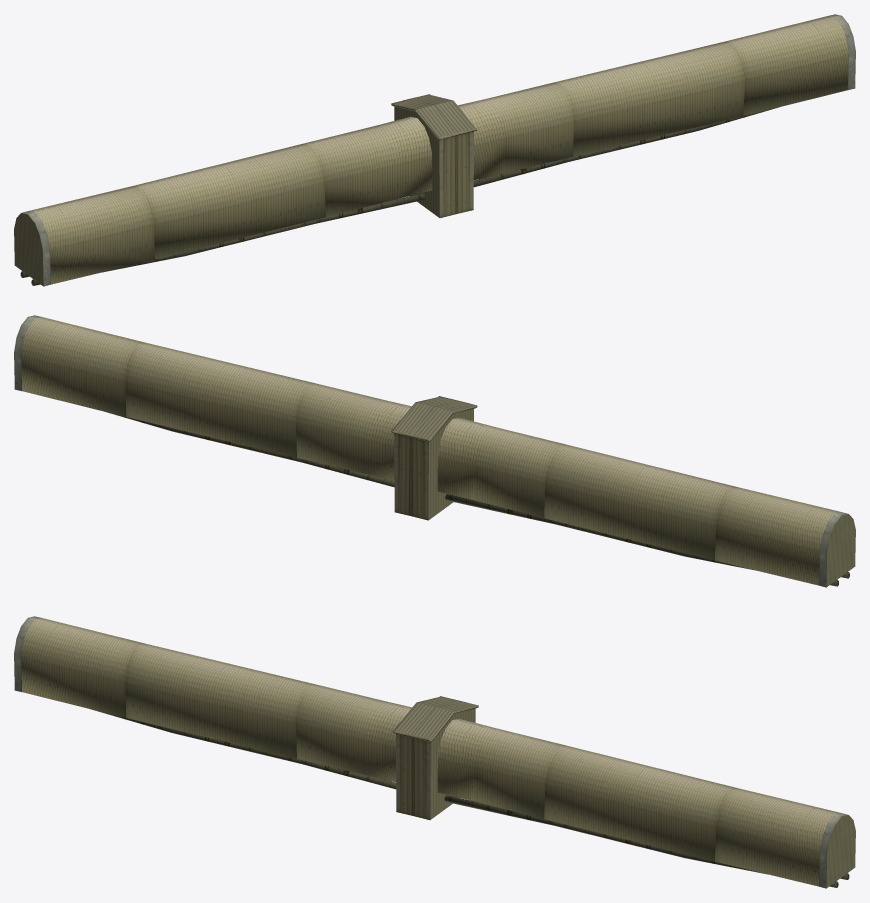
Rendered from industrial23.obj.
3 renders of one model, top to bottom at view 1: azimuth 30°, elevation 25°; view 2: azimuth 150°, elevation 25°; view 3: azimuth 330°, elevation 25°, orthographic.
Visible parts, largest first — view 1: industrial23; view 2: industrial23; view 3: industrial23.
Boxes of the visible parts, <box> form: industrial23: <box>14,14,855,286</box>; industrial23: <box>14,315,855,587</box>; industrial23: <box>14,616,855,888</box>.
Size of the model in its own units: 1722 by 187 by 175.
1 material, 1 textured.
